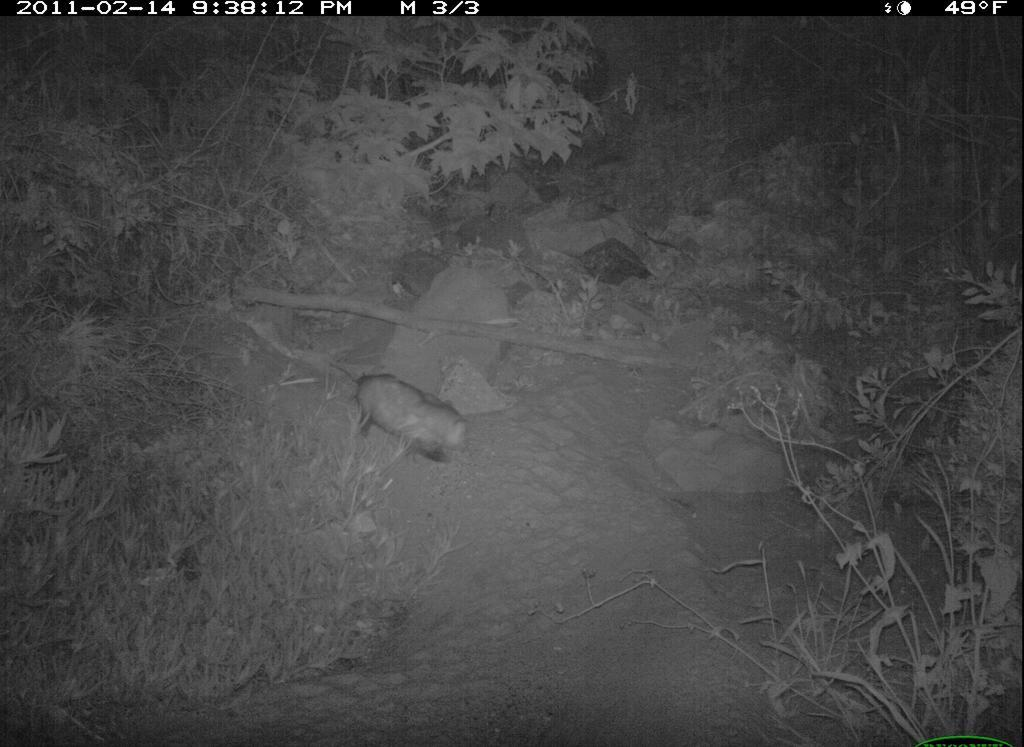opossum: (322, 361, 484, 478)
